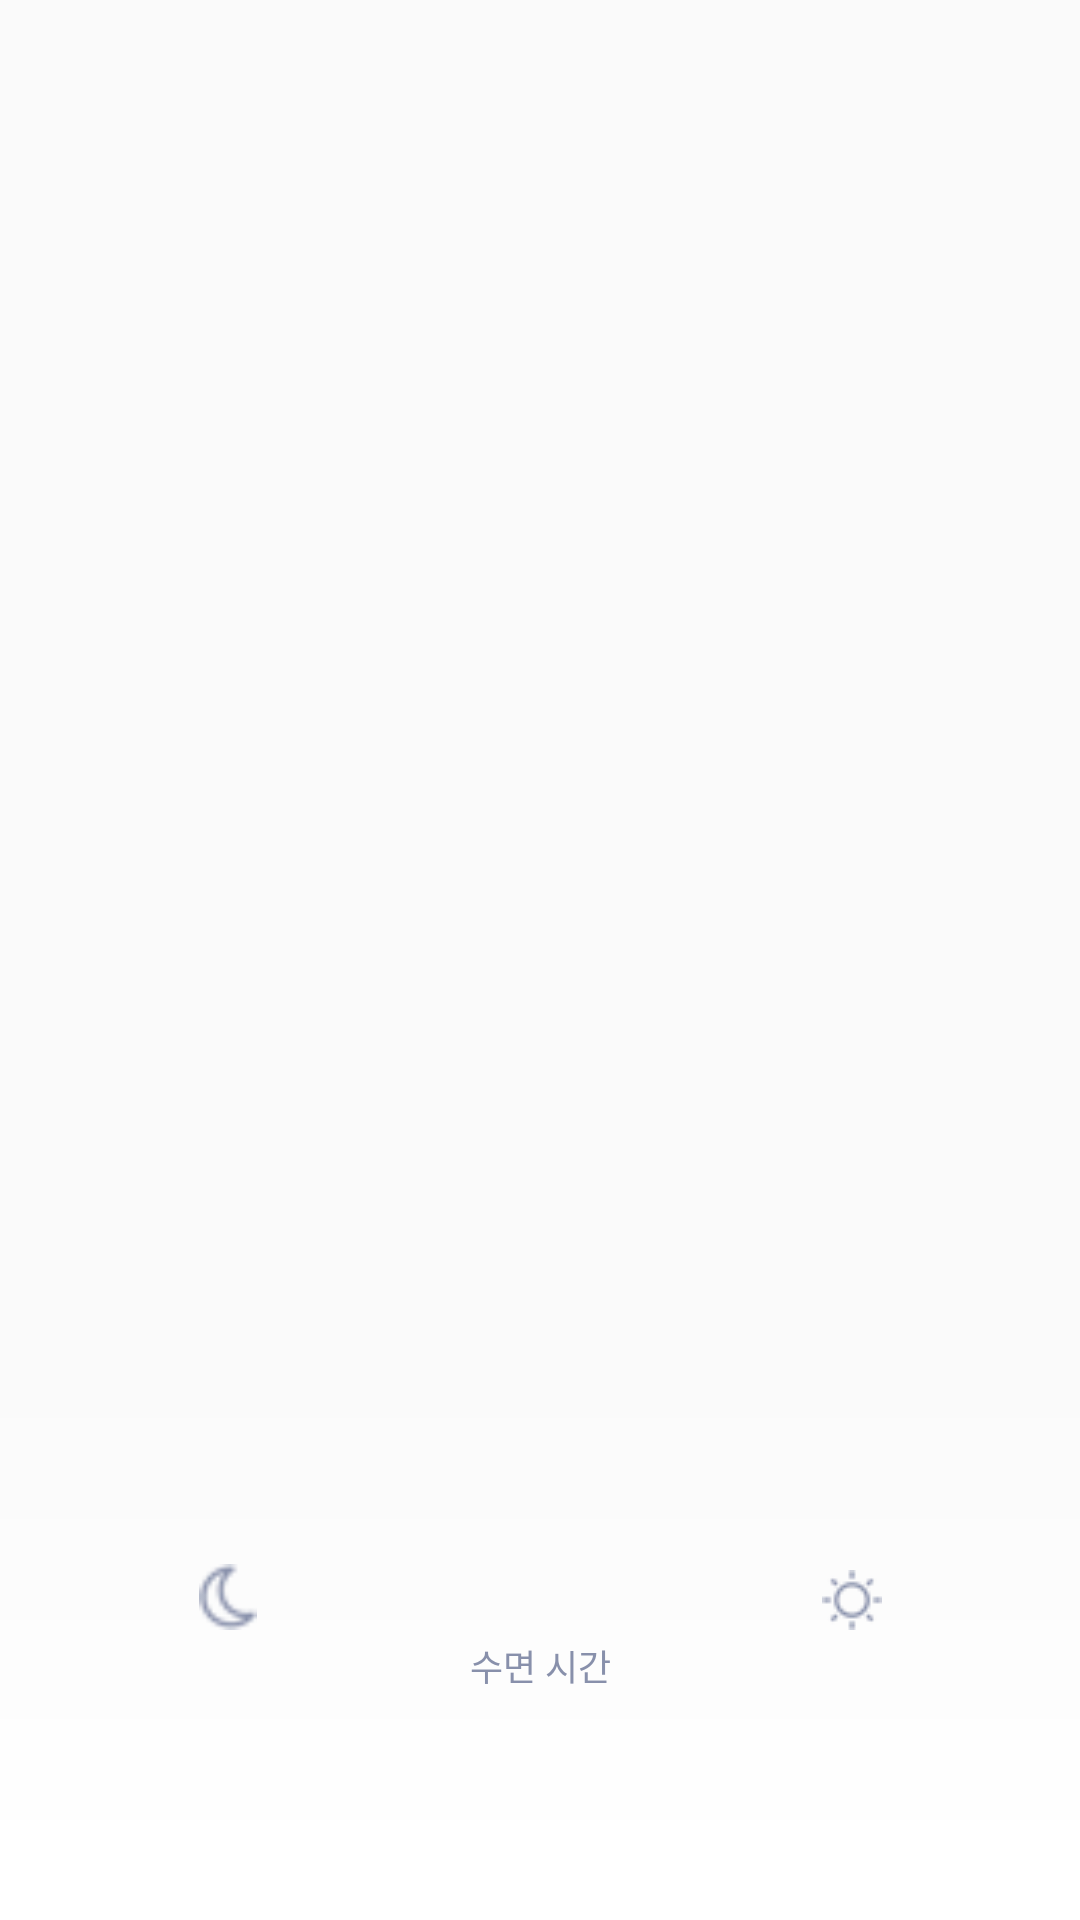

Where to tap for icons on this 1080 × 1920 app screen, as (x,y):
moon: (228,1597)
sun: (852,1600)
